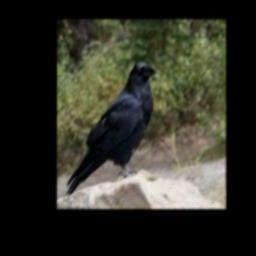Crow: (67, 61, 158, 195)
